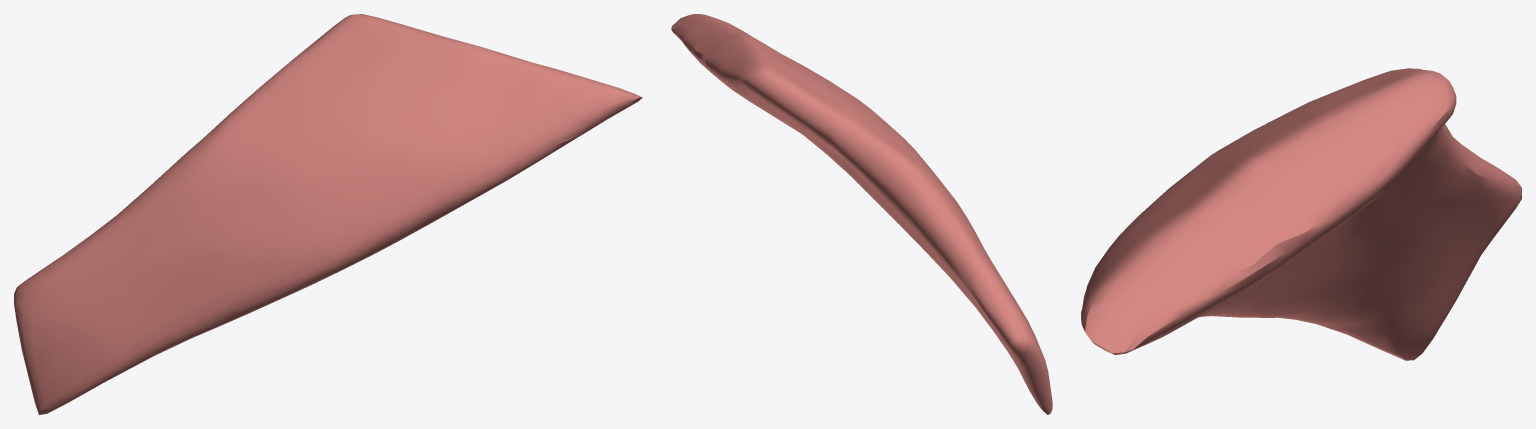
Rendered from fma34690_mm1785.glb.
3 views of the same model, side by side, from view 1: azimuth 30°, elevation 25°; view 2: azimuth 150°, elevation 25°; view 3: azimuth 270°, elevation 25° (orthographic). The views are drawn at different scales.
Visible parts, largest first — view 1: FMA34690_MM1785; view 2: FMA34690_MM1785; view 3: FMA34690_MM1785.
Boxes of the visible parts, x1,y1,x2,y2 form: FMA34690_MM1785: (14,14,642,414); FMA34690_MM1785: (671,14,1052,414); FMA34690_MM1785: (1081,68,1521,360).
Size of the model in its own units: 0.1162 by 0.068 by 0.0485.
